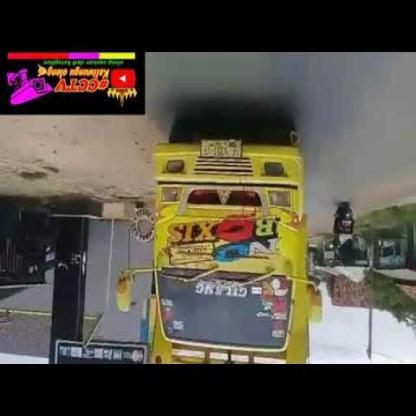truck: (113, 110, 323, 376)
